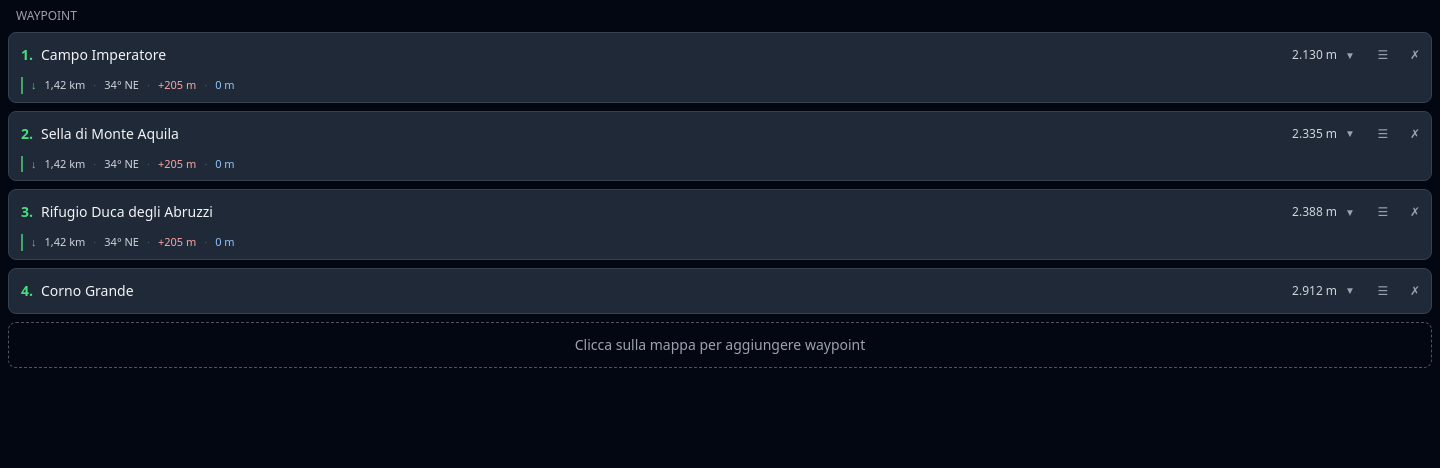
la lista sceglie la forma in base alla modalita › aprendo una riga si chiude la precedente
Click the button "1. Campo Imperatore 2.130 m ▼" at (104, 54), box left=9, top=33, right=1367, bottom=77
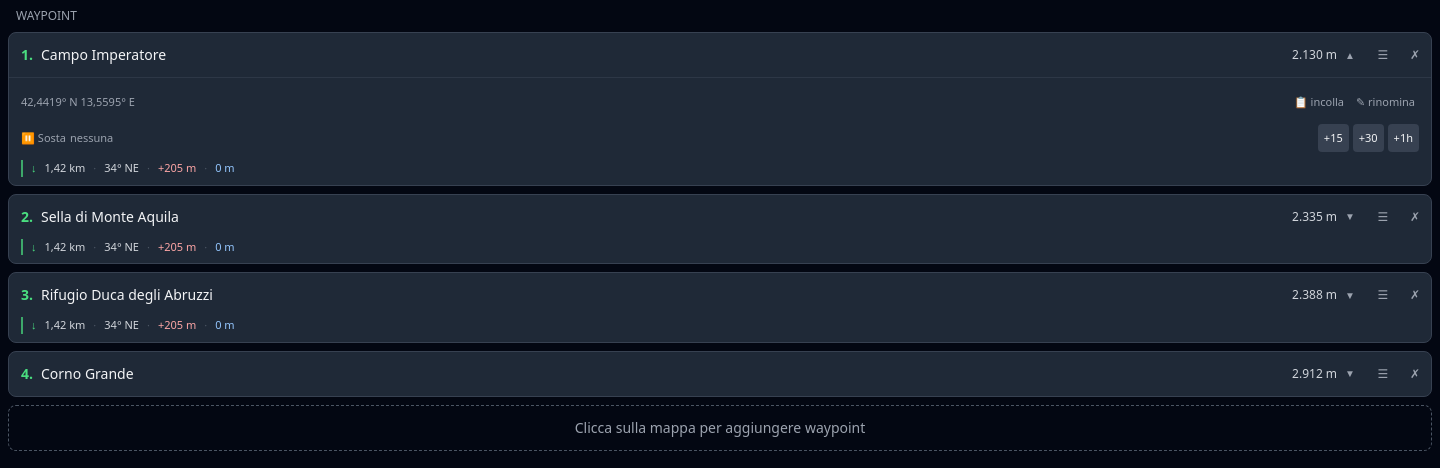
Click the button "2. Sella di Monte Aquila 2.335 m ▼" at (110, 216), box left=9, top=194, right=1367, bottom=238
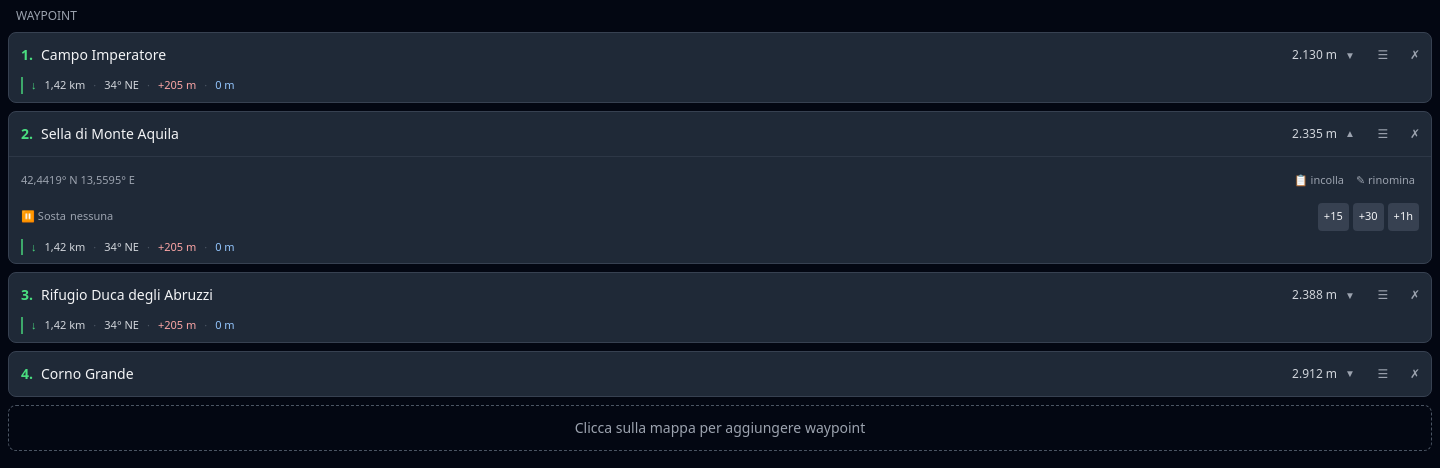
expect the button "2. Sella di Monte Aquila 2.335 m ▲" is expanded: met, box left=9, top=112, right=1367, bottom=156
